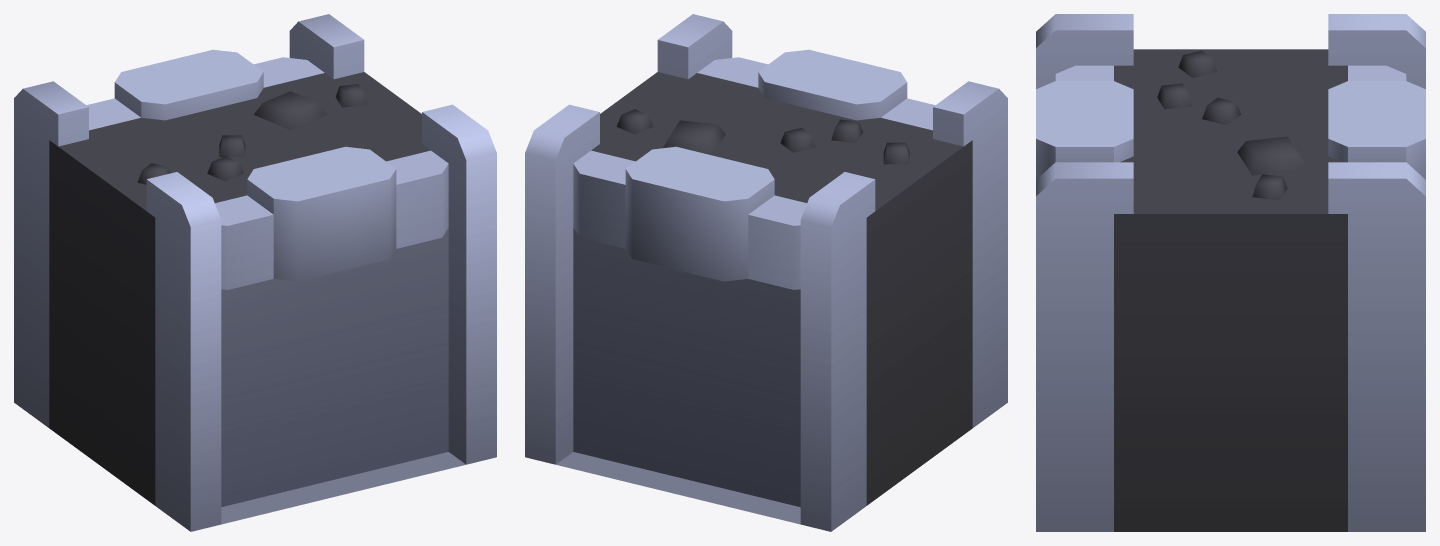
3 views of the same model, side by side, from view 1: azimuth 30°, elevation 25°; view 2: azimuth 150°, elevation 25°; view 3: azimuth 270°, elevation 25° (orthographic). The views are drawn at different scales.
Visible parts, largest first — view 1: wall_narrow; view 2: wall_narrow; view 3: wall_narrow.
Part boxes in pixels (x1,y1,x2,y2): wall_narrow: (14, 14, 496, 531); wall_narrow: (525, 14, 1007, 531); wall_narrow: (1036, 14, 1425, 531).
Bounding box in the file's own units: 1 × 1 × 1.
1 material, 1 textured.
